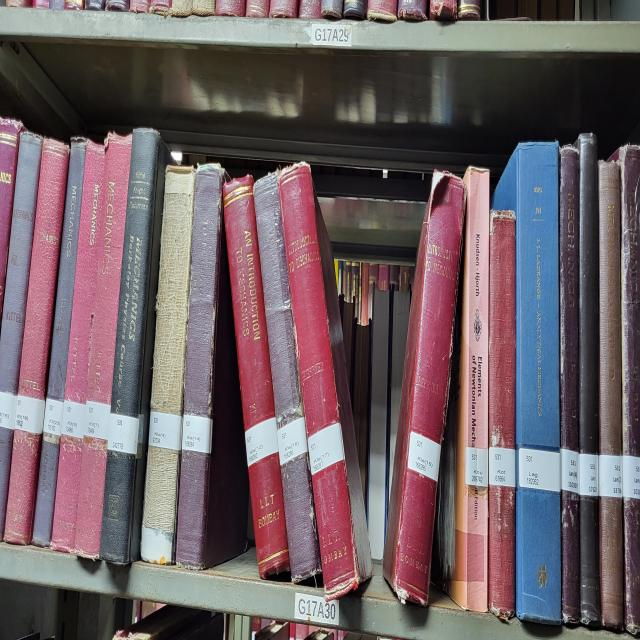Book: (382, 170, 466, 606), (279, 162, 360, 598), (492, 141, 561, 622), (100, 127, 170, 563), (176, 165, 249, 568), (254, 173, 321, 582), (222, 176, 289, 576), (5, 138, 69, 544), (75, 133, 131, 560), (51, 141, 105, 552), (32, 138, 86, 547), (141, 165, 195, 565), (448, 168, 490, 611), (576, 133, 600, 628), (489, 208, 515, 620), (559, 146, 580, 625), (619, 143, 640, 457), (599, 160, 621, 455), (624, 498, 640, 633)
Label: (518, 446, 561, 492), (308, 422, 344, 476), (245, 417, 279, 468), (408, 430, 441, 482), (278, 417, 308, 465), (149, 411, 182, 452), (108, 414, 139, 455), (181, 414, 212, 455), (15, 395, 45, 436), (489, 446, 516, 487), (84, 400, 110, 441), (599, 455, 622, 498), (465, 446, 489, 487), (61, 400, 86, 438), (579, 452, 599, 498), (622, 455, 640, 501), (561, 449, 579, 492), (44, 398, 64, 436)
